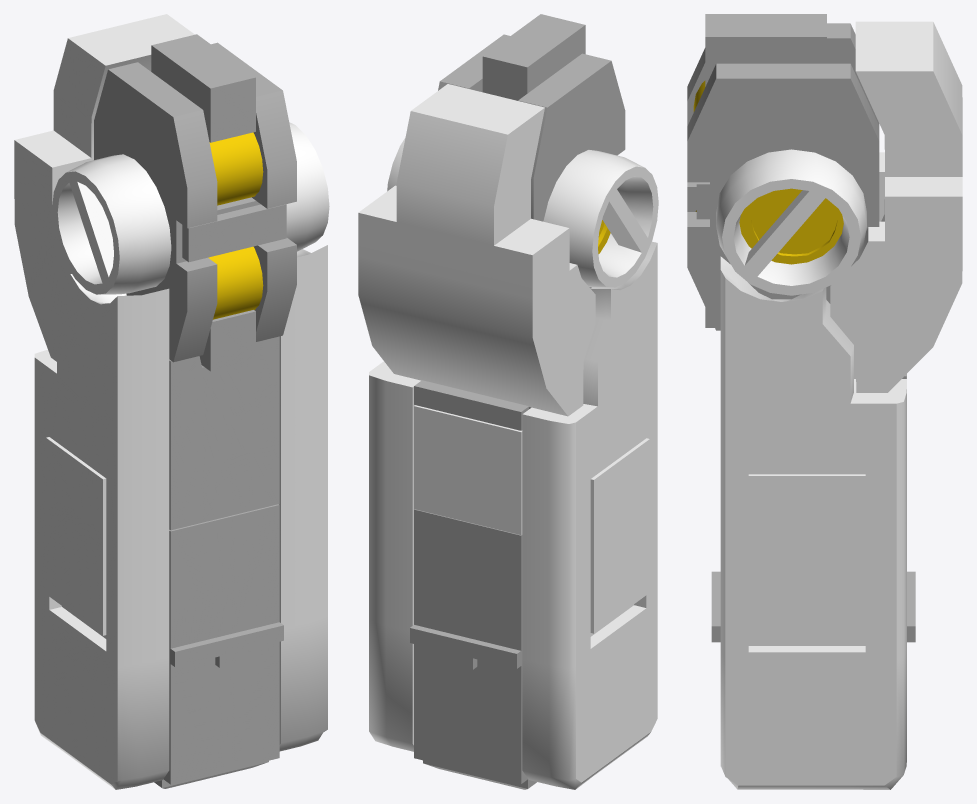
Rendered from drighthand.fbx.
3 renders of one model, left to right at view 1: azimuth 30°, elevation 25°; view 2: azimuth 150°, elevation 25°; view 3: azimuth 270°, elevation 25°, orthographic. The views are drawn at different scales.
Parts seen in each view (by area): view 1: drighthand; view 2: drighthand; view 3: drighthand.
Boxes of the visible parts, <box> form: drighthand: <box>14,14,329,789</box>; drighthand: <box>358,14,658,789</box>; drighthand: <box>687,14,962,789</box>.
Size of the model in its own units: 186 by 582 by 198.
